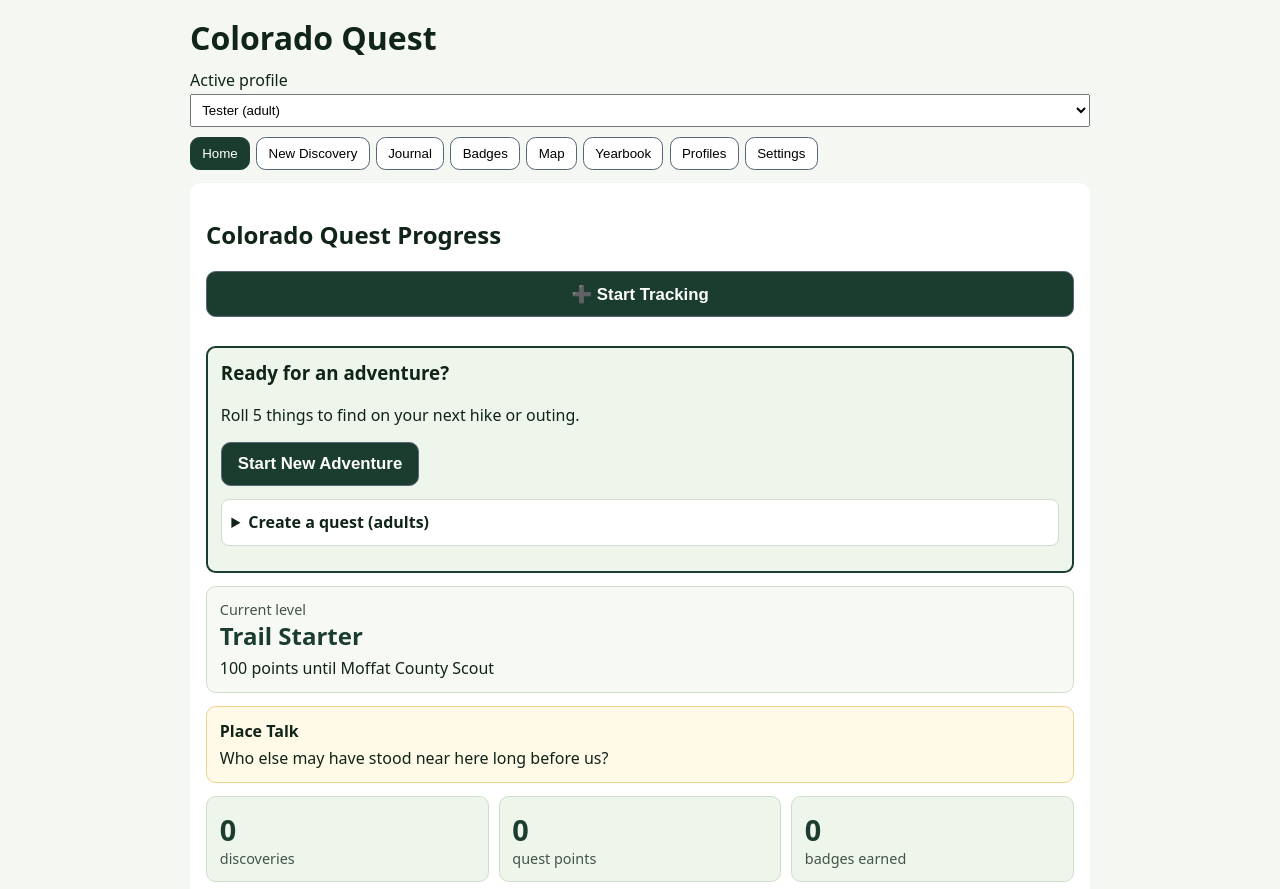
Test: adventure mode › starts an adventure and shows 5 items
Click the button "Start New Adventure". click: (320, 464)
box: x1=221 y1=442 x2=419 y2=486
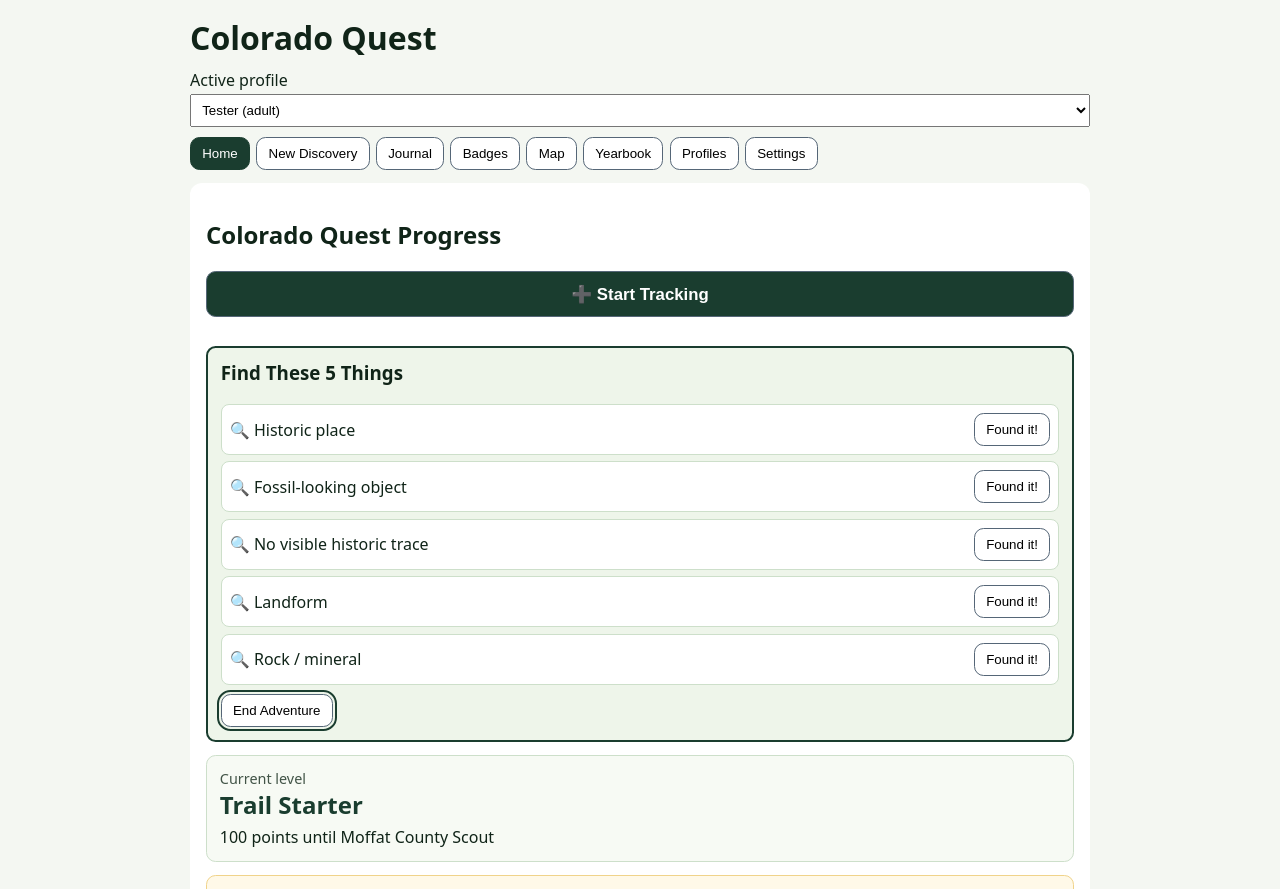
Check: the number of buttons "Found it!" is 5, box x1=974 y1=413 x2=1050 y2=446; x1=974 y1=470 x2=1050 y2=503; x1=974 y1=528 x2=1050 y2=561; x1=974 y1=585 x2=1050 y2=618; x1=974 y1=643 x2=1050 y2=676
